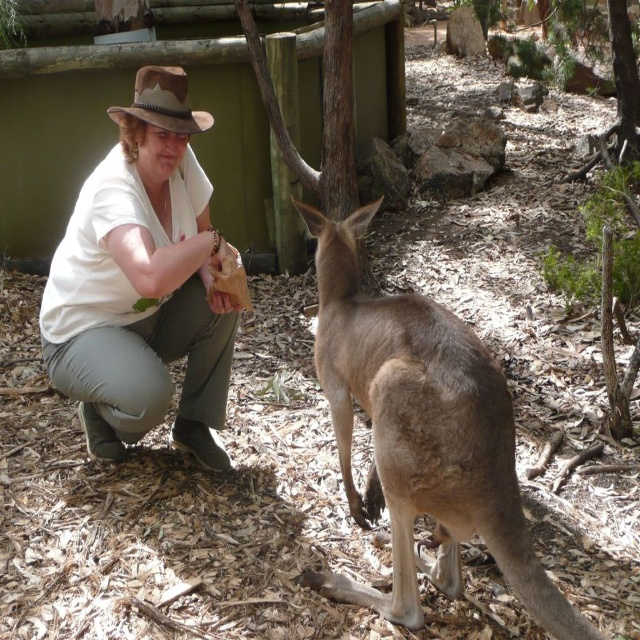Kangaroo: (288, 195, 610, 639)
